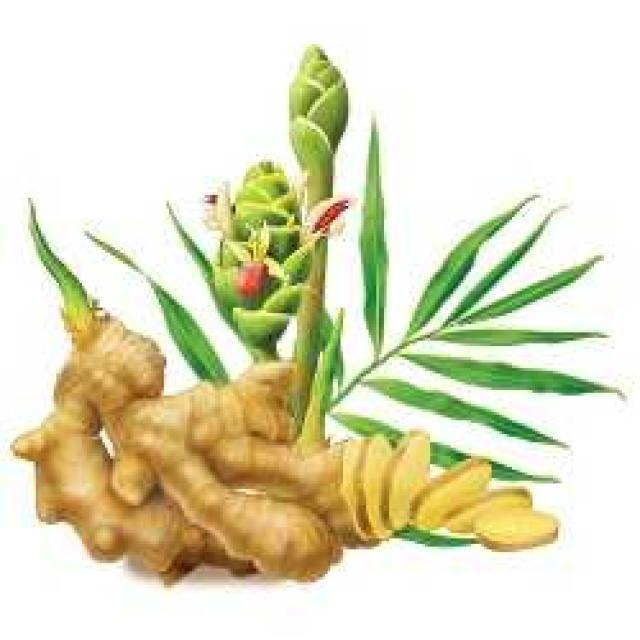ginger: (12, 287, 555, 579)
